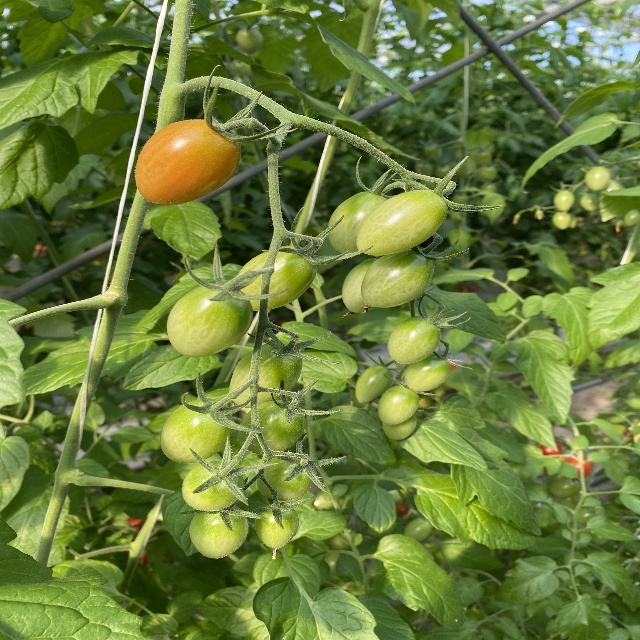l_green: (167, 283, 255, 357), (355, 189, 449, 255), (235, 246, 318, 311), (229, 341, 303, 409), (159, 398, 231, 465), (362, 248, 434, 308), (329, 191, 390, 256), (240, 398, 306, 457), (189, 505, 251, 559), (182, 461, 245, 513), (254, 452, 315, 501), (386, 316, 442, 365), (340, 258, 382, 313), (254, 500, 298, 548), (405, 353, 451, 392), (377, 385, 419, 425), (354, 366, 394, 403), (382, 414, 416, 440)
l_half_ripened: (133, 119, 243, 206)
